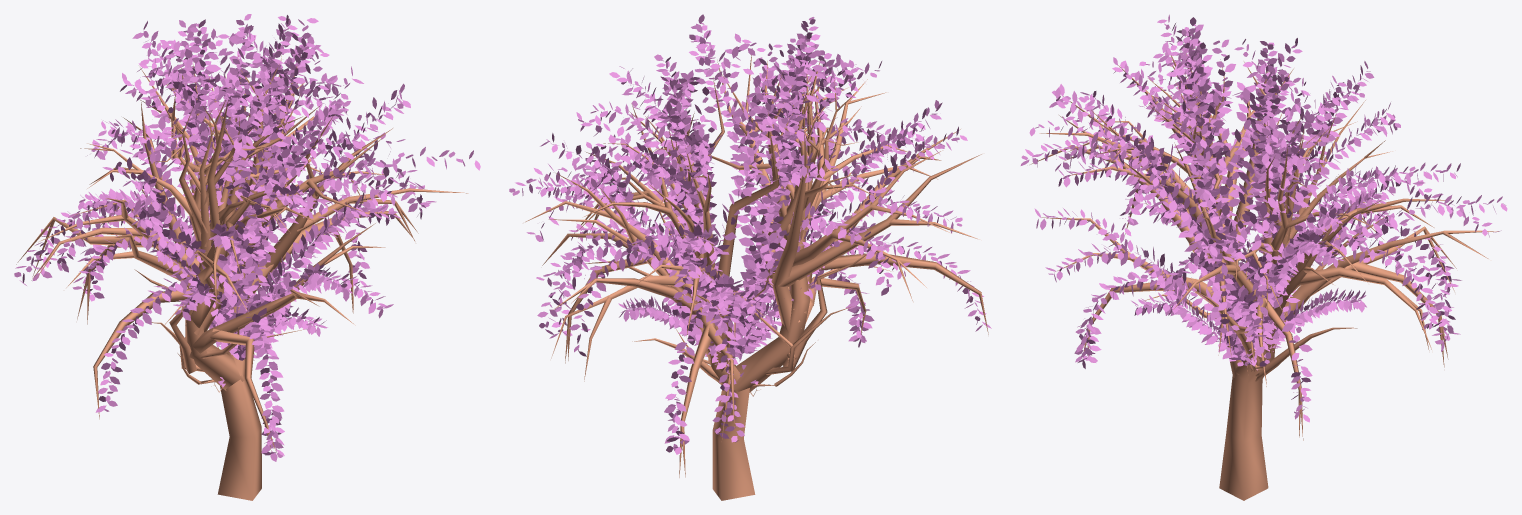
Rendered from cherry_01_lod1.fbx.
3 renders of one model, left to right at view 1: azimuth 30°, elevation 25°; view 2: azimuth 150°, elevation 25°; view 3: azimuth 270°, elevation 25°, orthographic. The views are drawn at different scales.
Visible parts, largest first — view 1: cherry_01_lod1; view 2: cherry_01_lod1; view 3: cherry_01_lod1.
Part boxes in pixels (x1,y1,x2,y2): cherry_01_lod1: (14,14,480,500); cherry_01_lod1: (509,14,991,500); cherry_01_lod1: (1020,14,1507,500).
Size of the model in its own units: 499 by 538 by 522.
